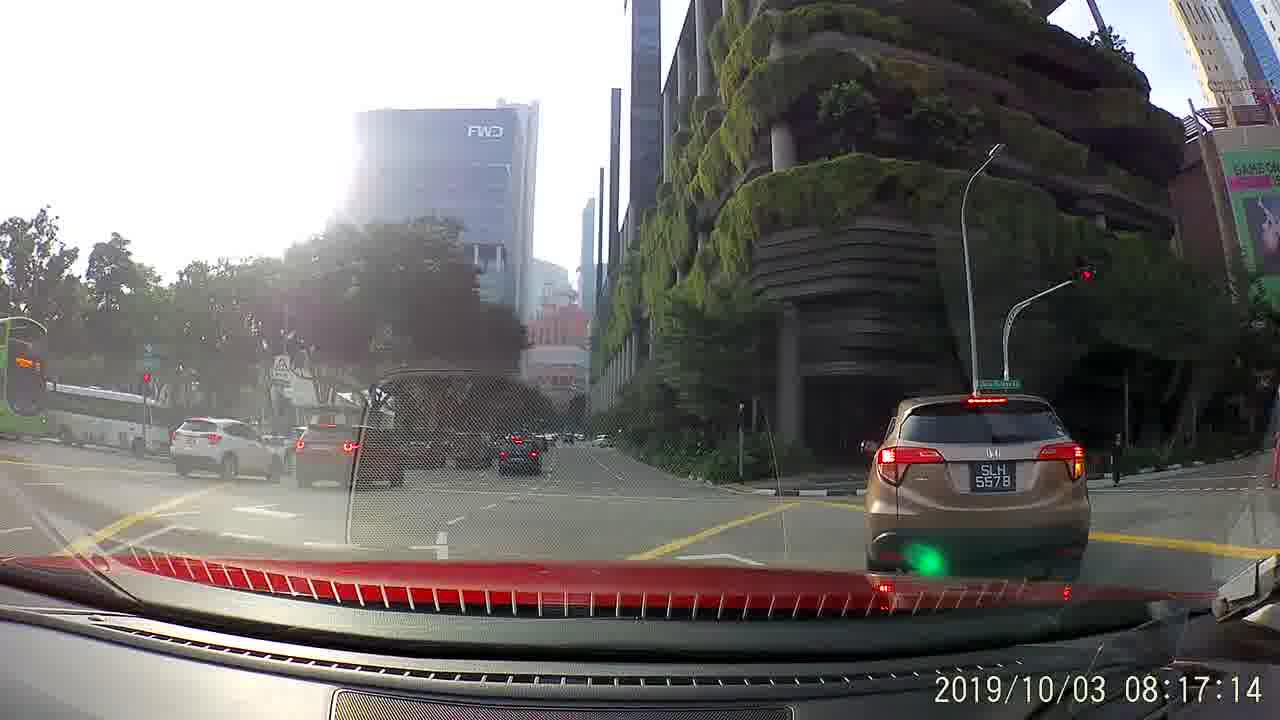bus: (0, 312, 50, 438)
car: (856, 393, 1088, 578), (43, 380, 173, 461), (295, 419, 408, 493), (169, 412, 285, 480), (498, 437, 549, 478), (404, 438, 445, 469), (590, 432, 616, 449)
